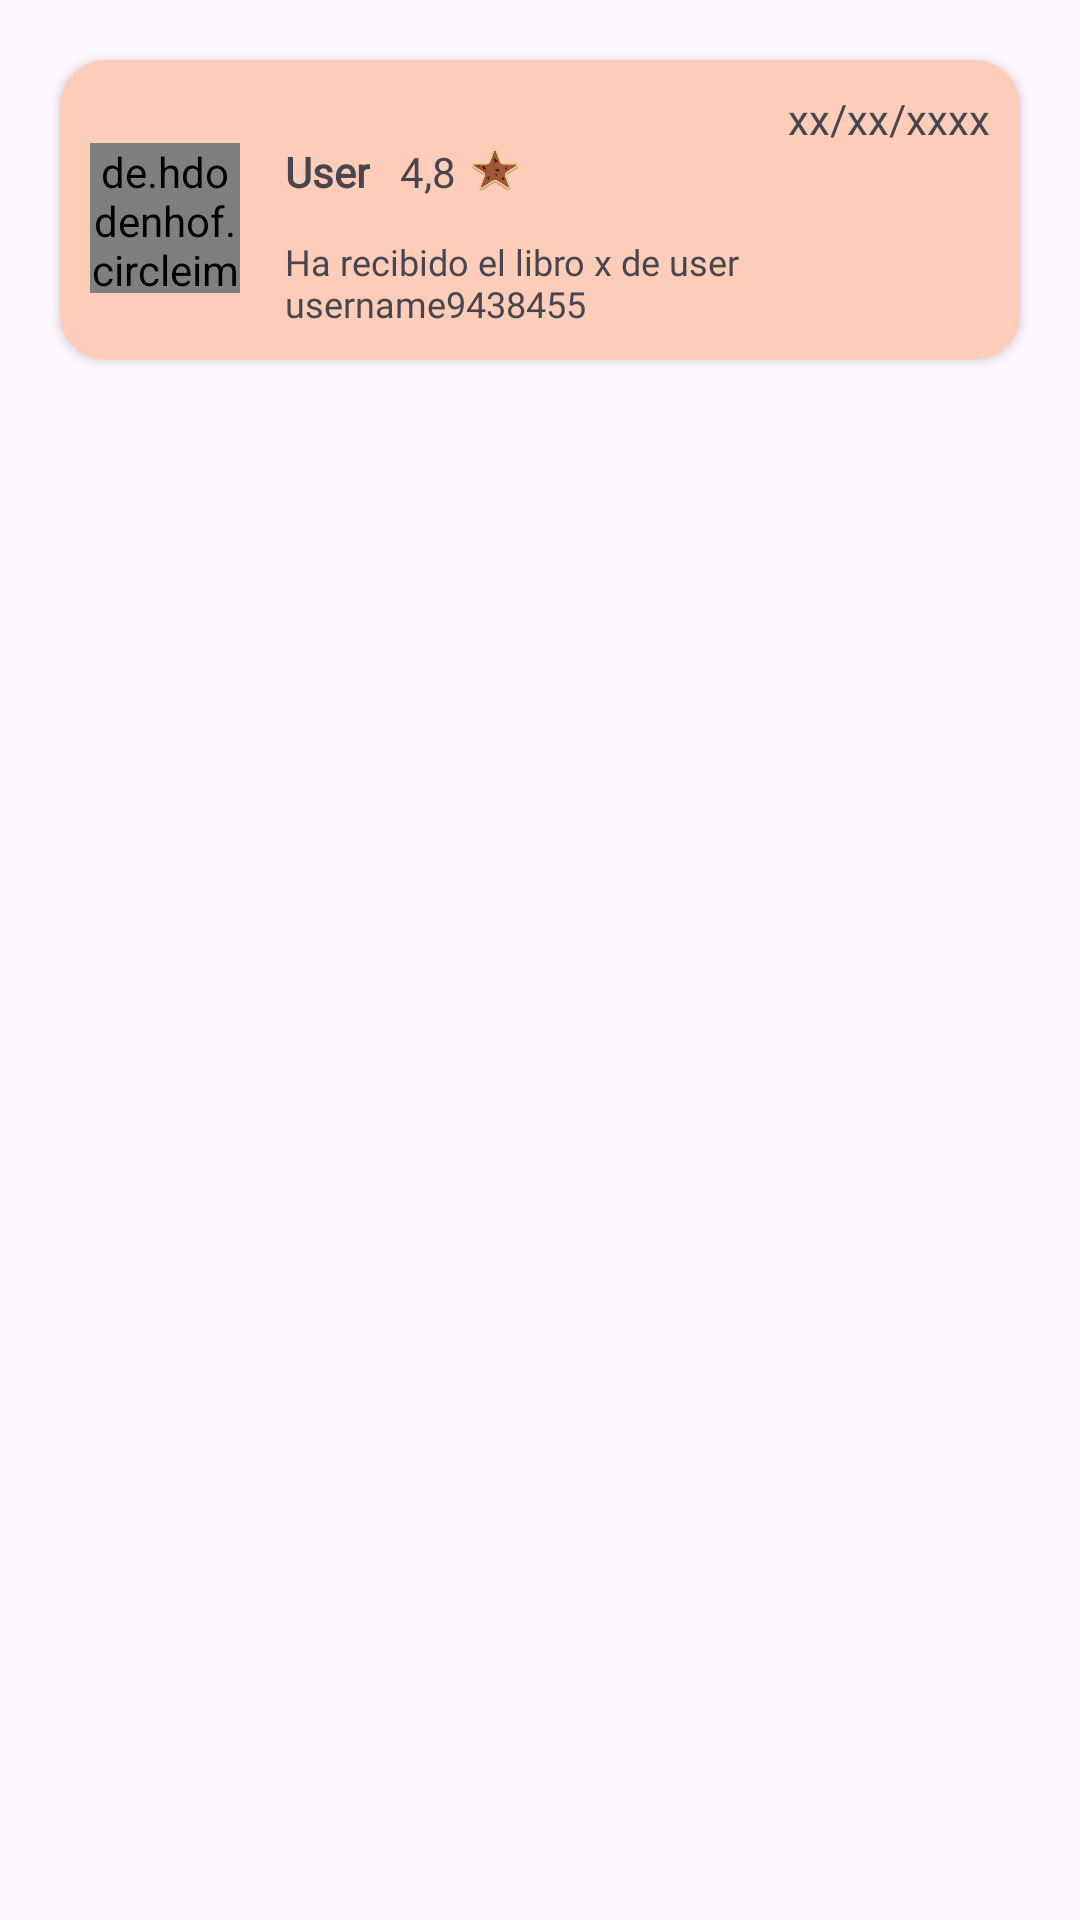

Locate icon controls on the screen. Image size 1080px×1920px, boxes as (x1=x1, y1=y1, x2=x2, y2=y2).
star: (x1=472, y1=149, x2=518, y2=190)
